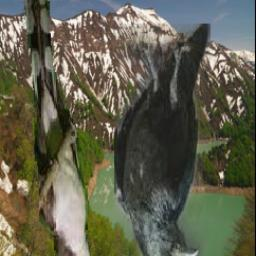Crow: (113, 24, 209, 256)
Cuckoo: (22, 0, 100, 256)
